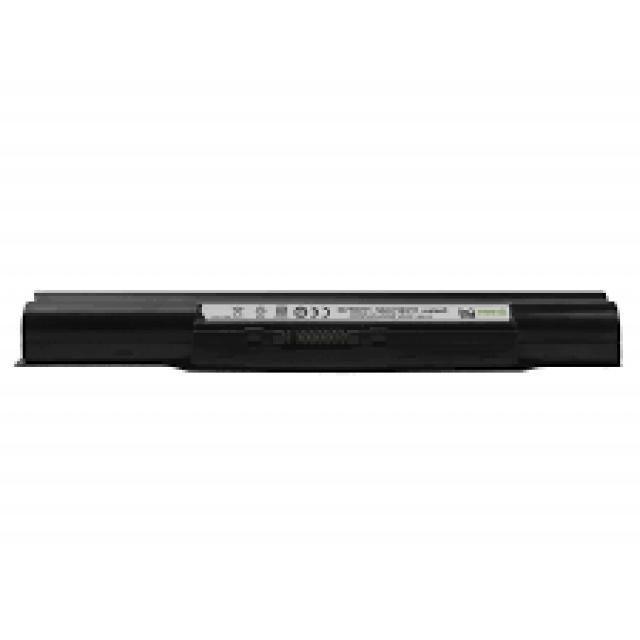battery: (14, 284, 620, 372)
